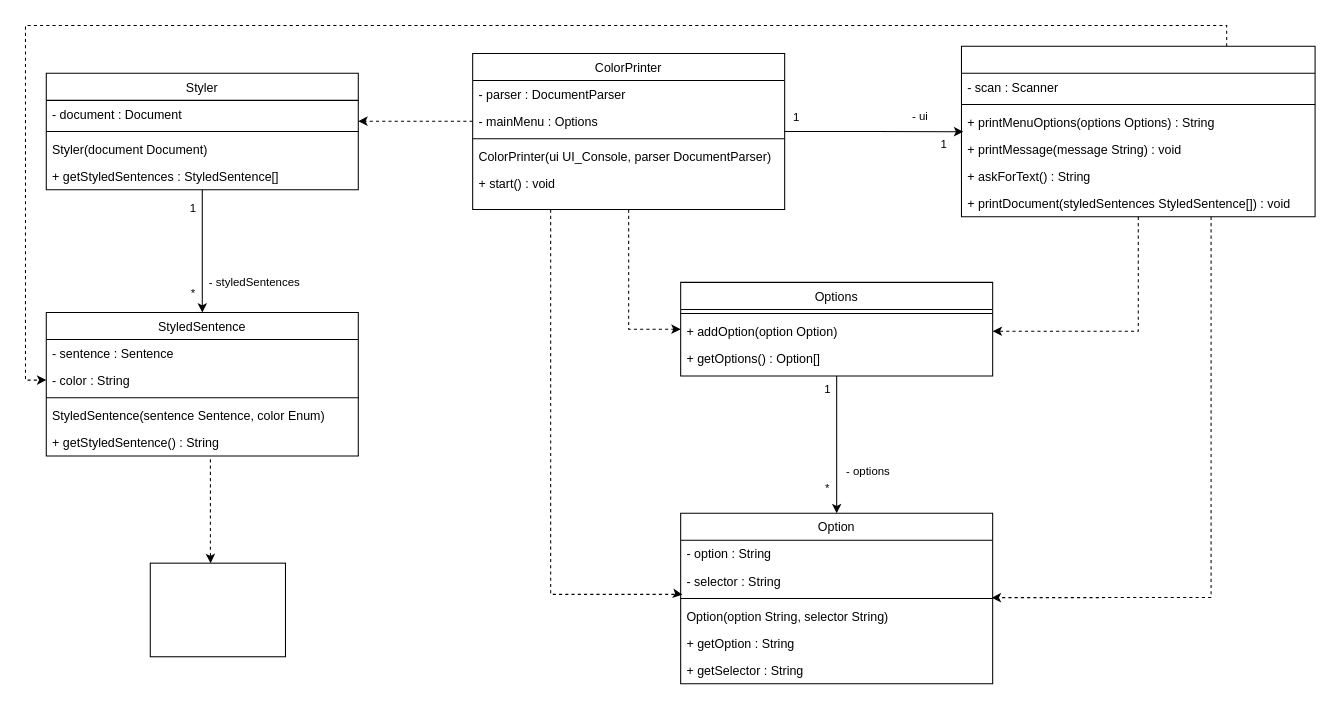
This 1333x705 diagram has some shape labels left out. Each missing label, with the box of its shape:
<<enumeration>> COLOR RED GREEN BLUE: (149, 562, 285, 657)
UI_Console: (960, 45, 1315, 217)
